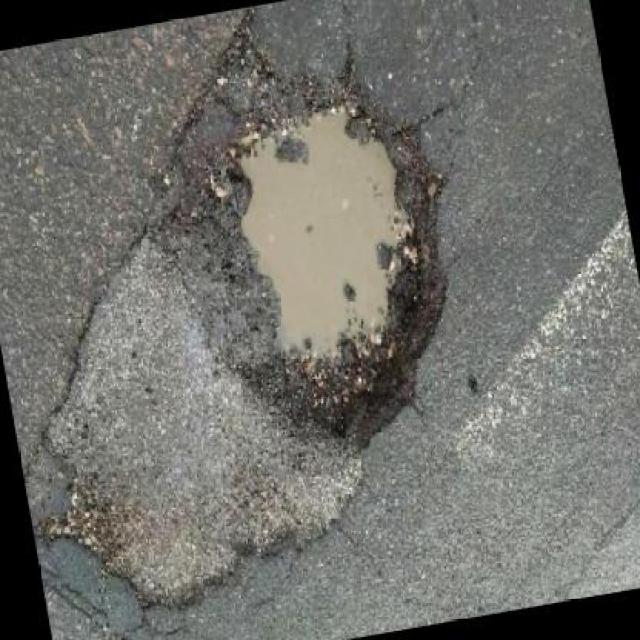pothole: (184, 56, 485, 479)
